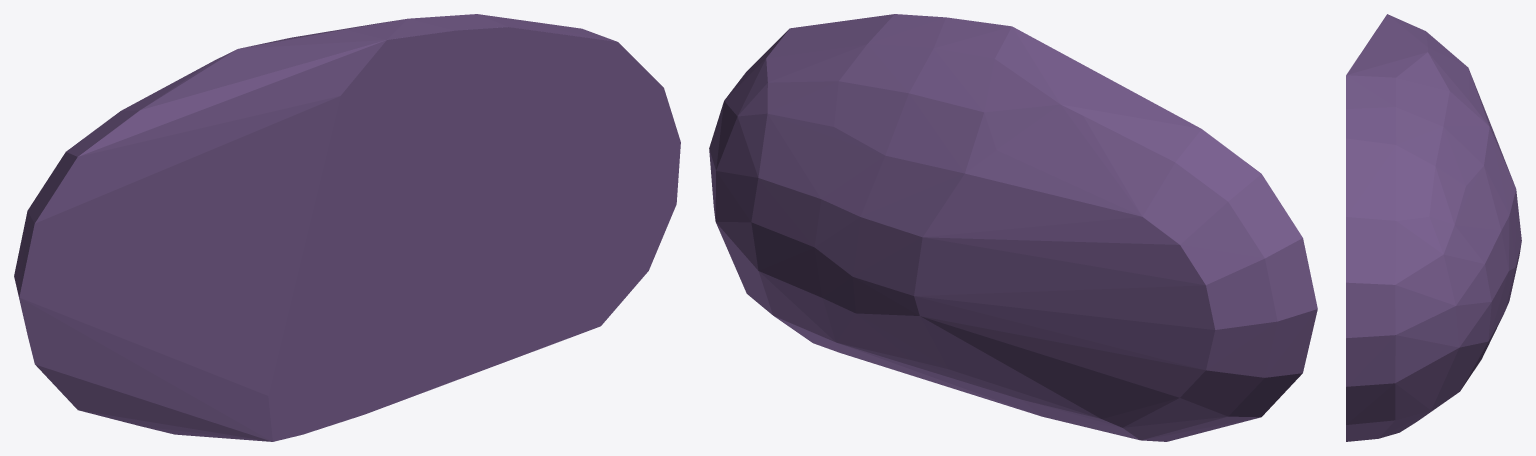
File: finger_tip_collision001.obj
The picture shows the model from 3 angles, left to right: view 1: azimuth 30°, elevation 25°; view 2: azimuth 150°, elevation 25°; view 3: azimuth 270°, elevation 25°; orthographic projection. The views are drawn at different scales.
Bounding box in the file's own units: 0.0297 × 0.0167 × 0.00857.
